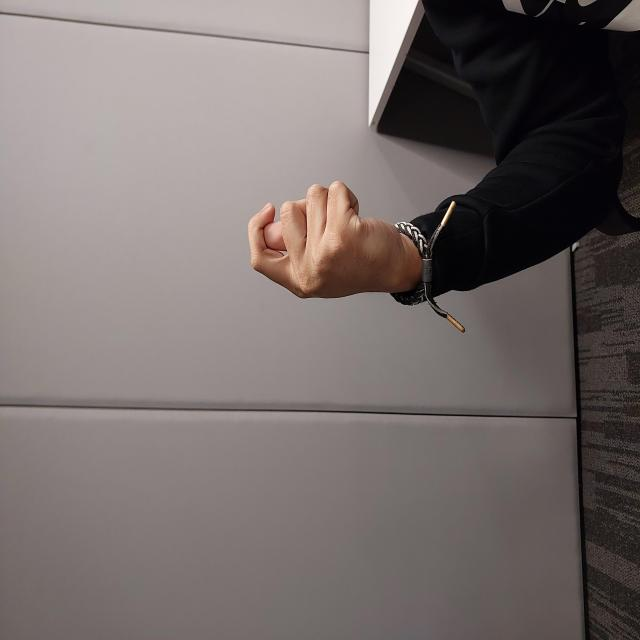T: (338, 245, 460, 426)
